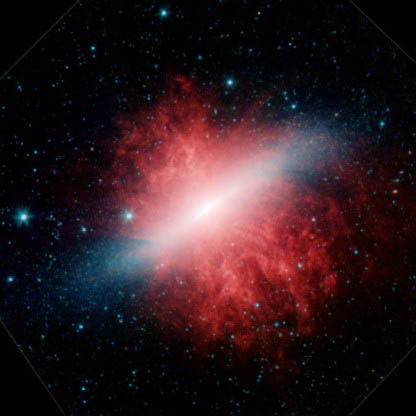Messier 82: (51, 62, 382, 347)
